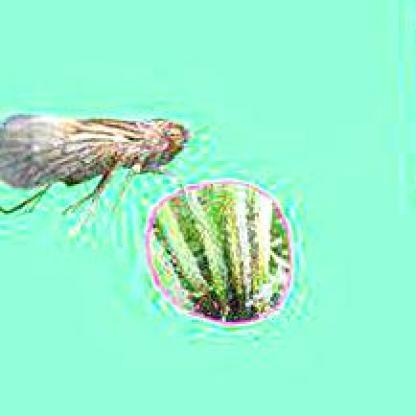brown-planthopper: (0, 115, 192, 192)
